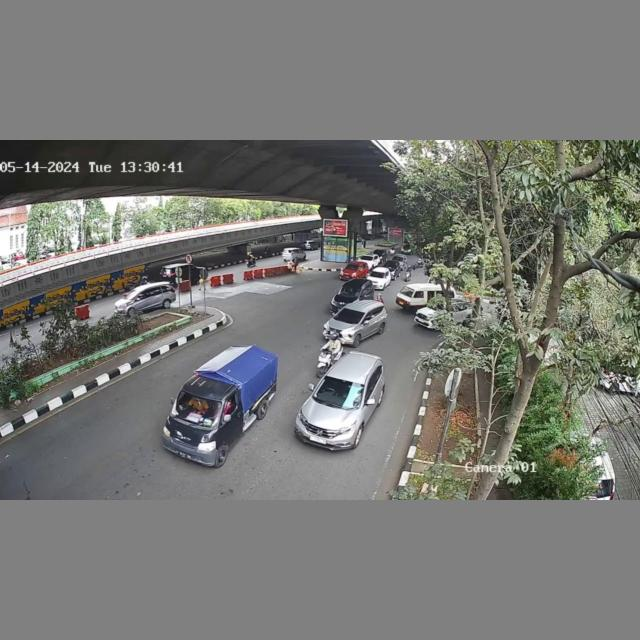windshield: (172, 390, 222, 429), (311, 378, 368, 412), (332, 305, 365, 325), (337, 283, 363, 298)
